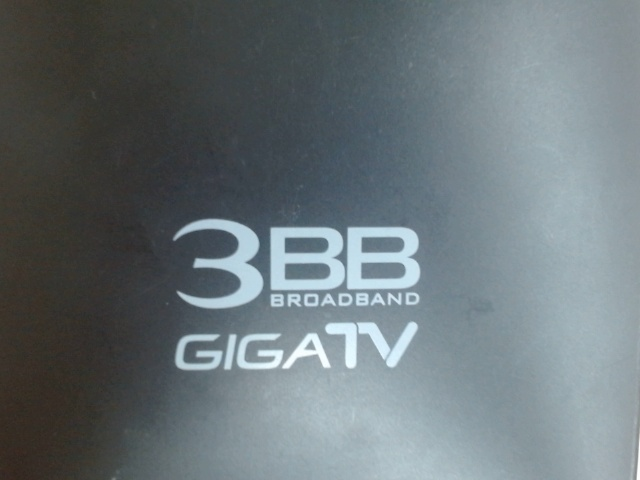AG_3BB: (161, 211, 429, 387)
